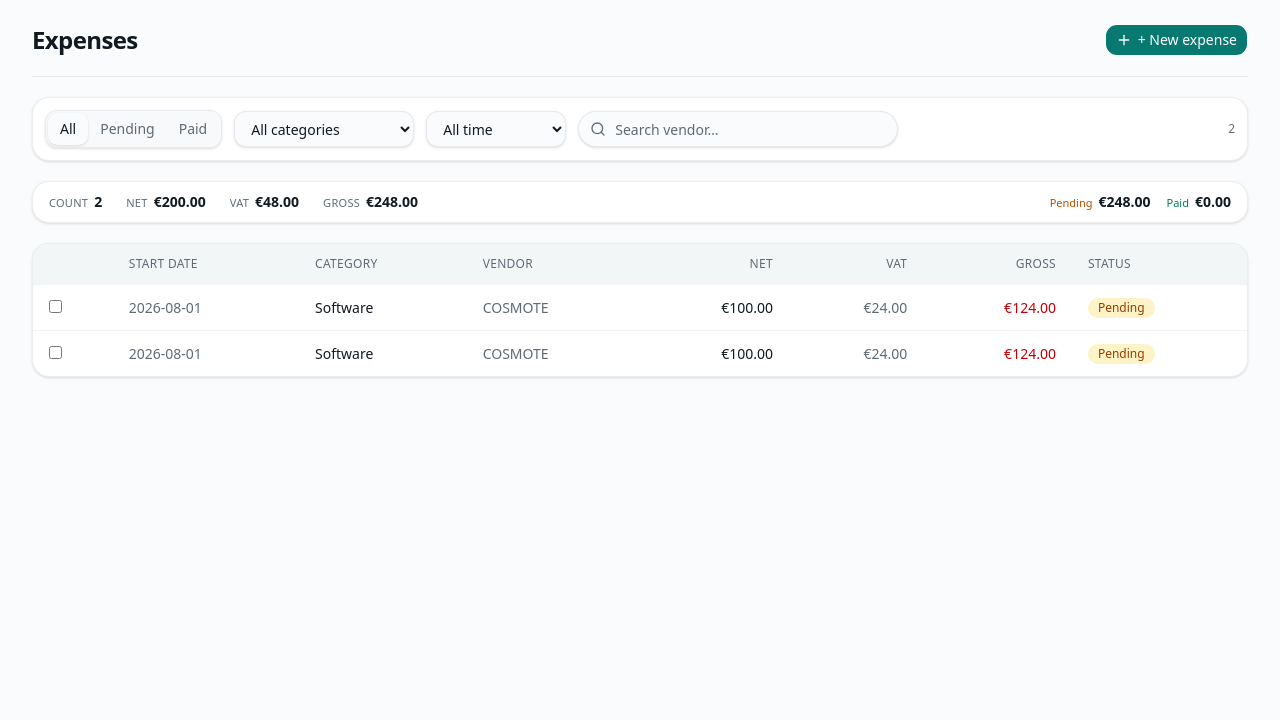
Test: ExpensesPage — bulk mark paid › selecting rows reveals the bulk-mark-paid action with a date input
Click the 1st checkbox named "Select row": (56, 306) [49, 300, 62, 312]
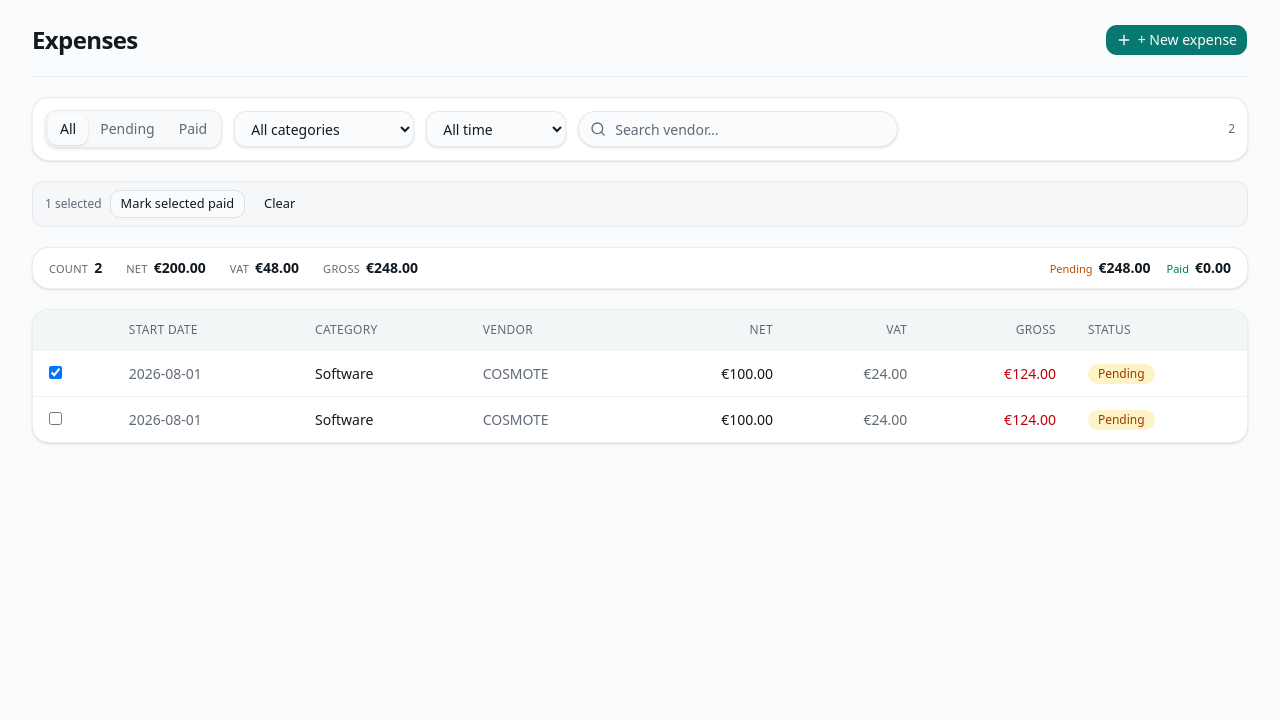
Now the text "1 selected" is shown, box [45, 196, 102, 212]
Click the button "Mark selected paid": (177, 204) [110, 190, 245, 218]
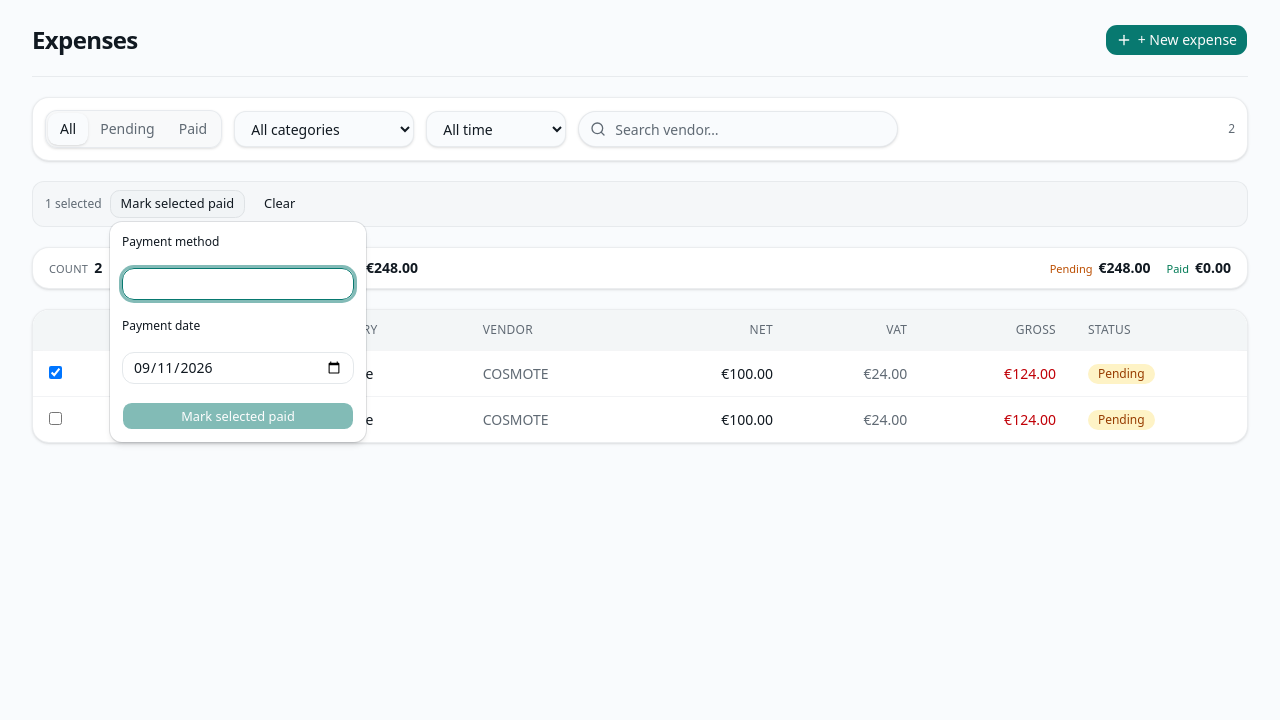
Now the date field named "Payment date" holds "2026-09-11", box [122, 352, 354, 384]
